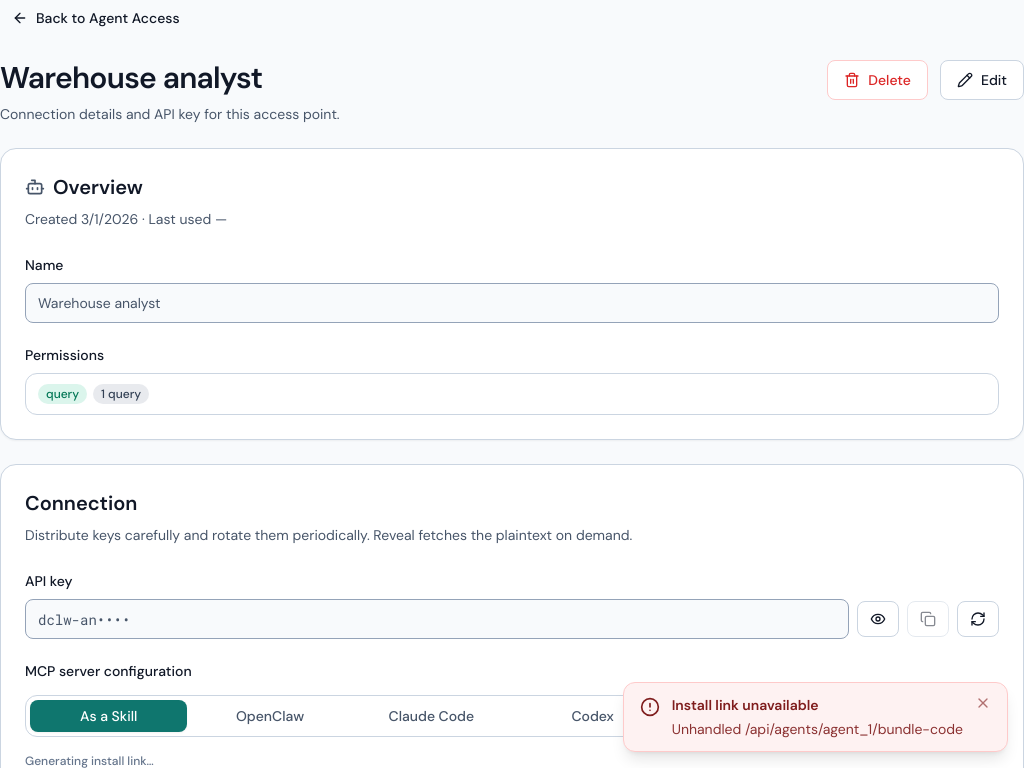
Test: AgentDetailPage › navigates to the edit route when Edit is clicked
Click the button "Edit": click(982, 80) top-left (940, 60), bottom-right (1023, 100)
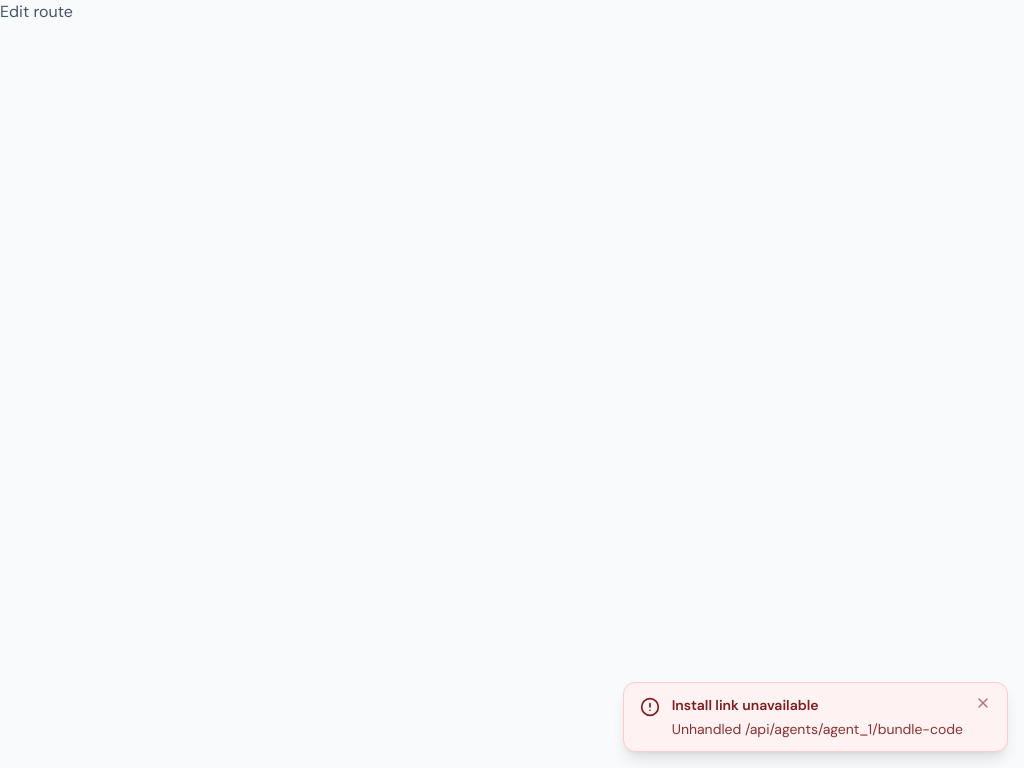
Expected: the text "Edit route" is shown, top-left (0, 1), bottom-right (73, 22)
